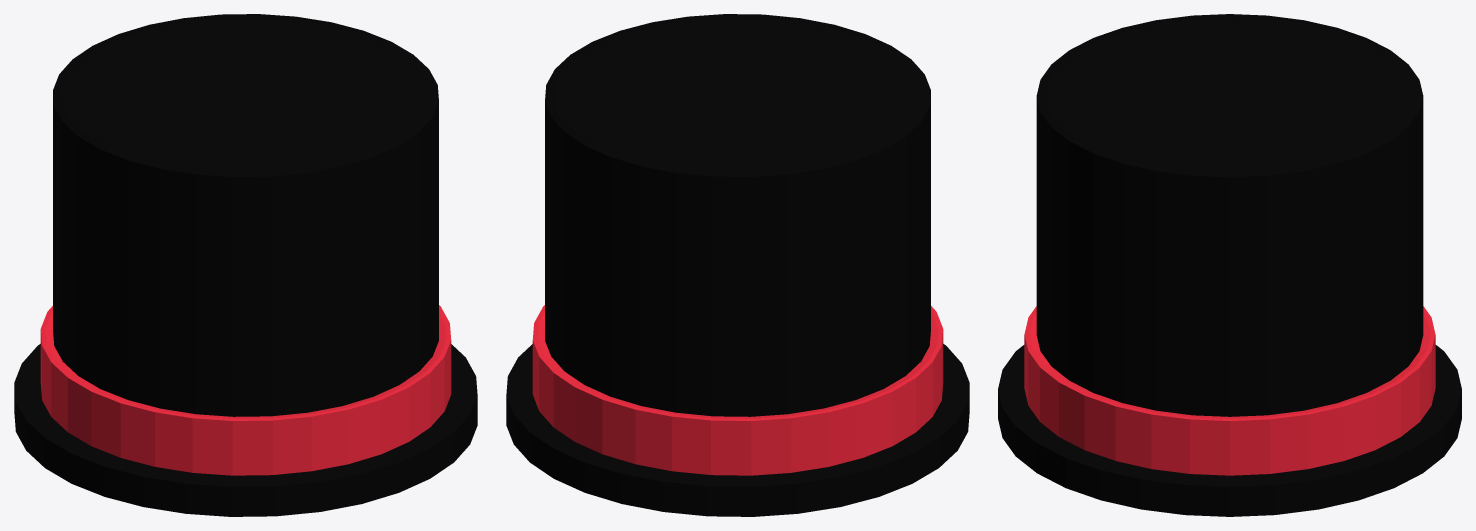
File: tophat.glb
3 views of the same model, side by side, from view 1: azimuth 30°, elevation 25°; view 2: azimuth 150°, elevation 25°; view 3: azimuth 270°, elevation 25° (orthographic).
Parts seen in each view (by area): view 1: Cylinder; view 2: Cylinder; view 3: Cylinder.
Boxes of the visible parts, bbox=[...] form: Cylinder: bbox=[14, 14, 477, 516]; Cylinder: bbox=[506, 14, 969, 516]; Cylinder: bbox=[998, 14, 1461, 516].
Bounding box in the file's own units: 1.46 × 1.13 × 1.46.
Materials: 1 (1 with a texture image).
